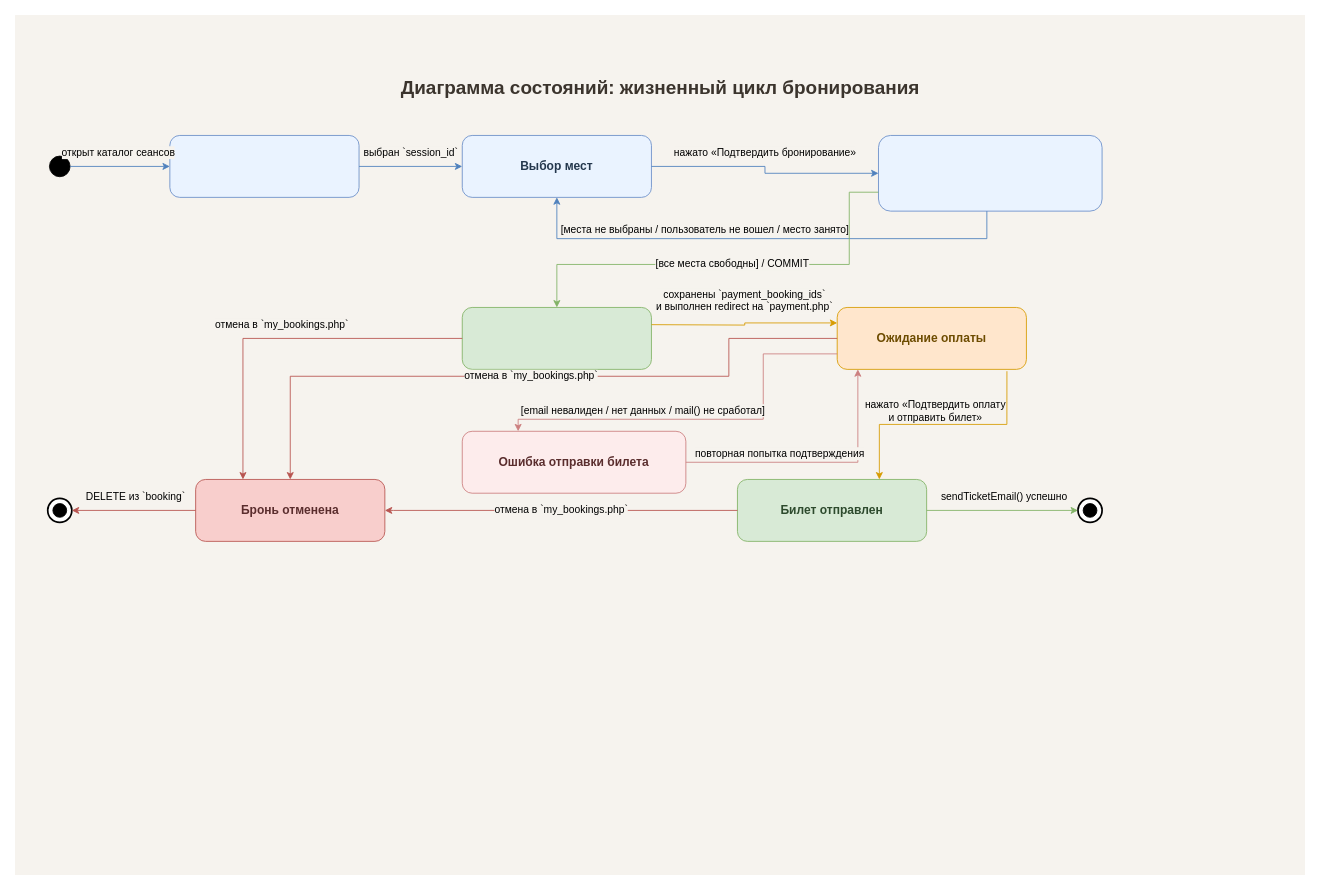
Some shapes in this 1319 by 889 pixel diagram are drawn without their labels. The shapes that lost their labels are listed below. From the top down, each one's box as (x1, y1, x2, y2) in pixels, then its label:
(169, 135, 359, 197): Выбор сеанса
(878, 135, 1102, 211): Проверка бронирования и доступности мест
(461, 307, 651, 369): Бронь создана
